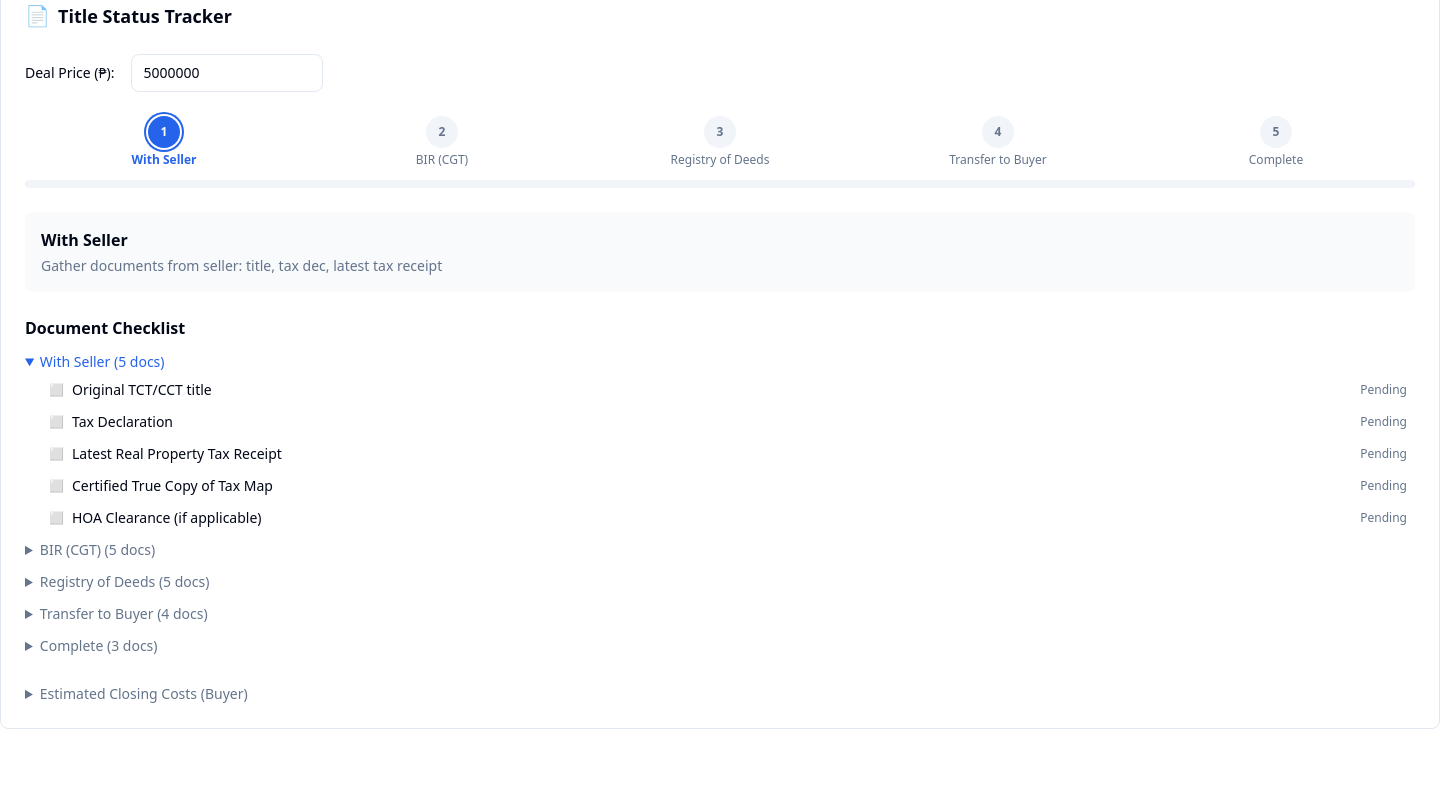
Test: TitleStatusTracker › shows closing cost breakdown when expanded
Click the heading "Estimated Closing Costs (Buyer)" at (144, 694), box [40,684,248,703]
(page scrolled)
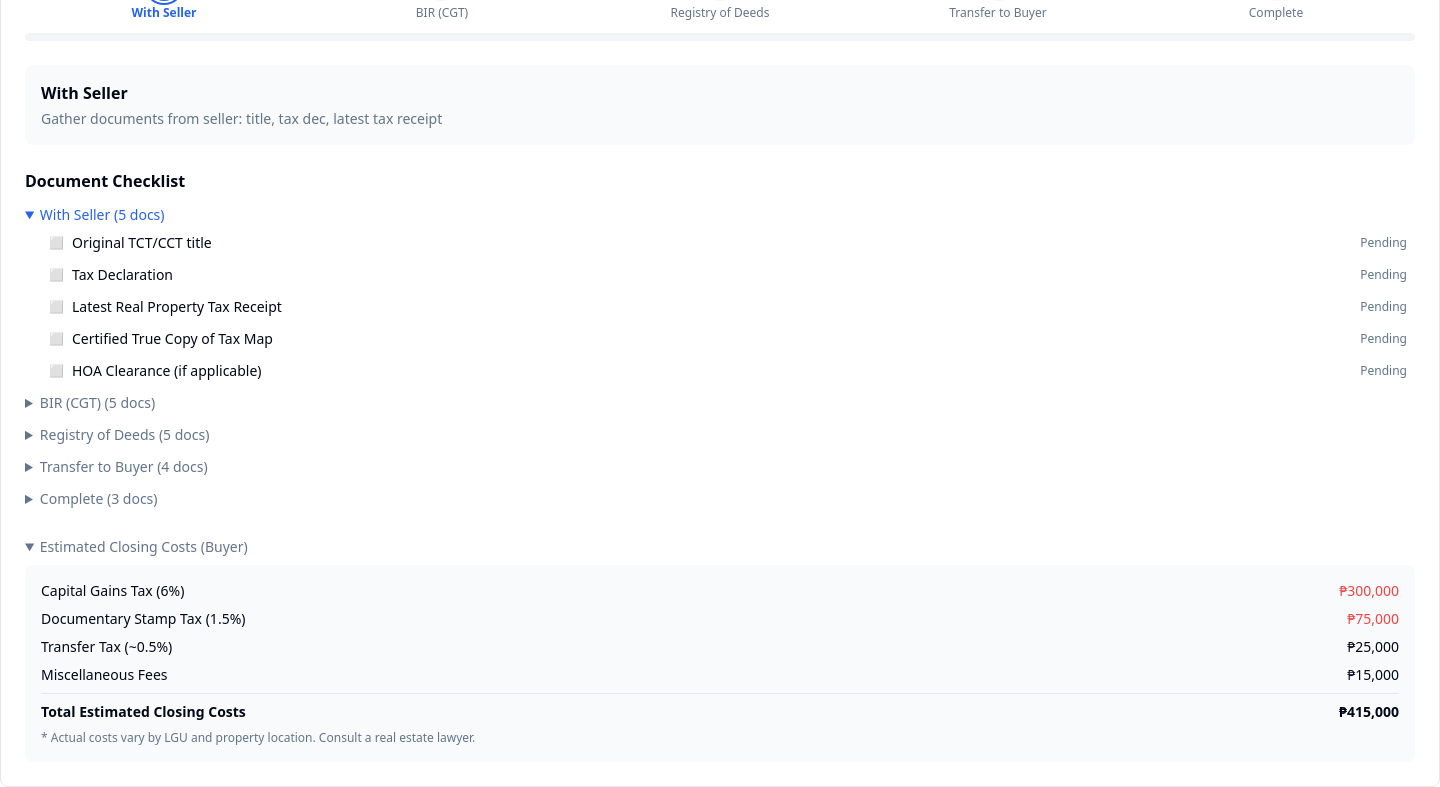
Expected: the text "Capital Gains Tax (6%)" is shown, [41,581,184,601]
Expected: the text "Documentary Stamp Tax (1.5%)" is shown, [41,609,246,629]
Expected: the text "Miscellaneous Fees" is shown, [41,665,168,685]
